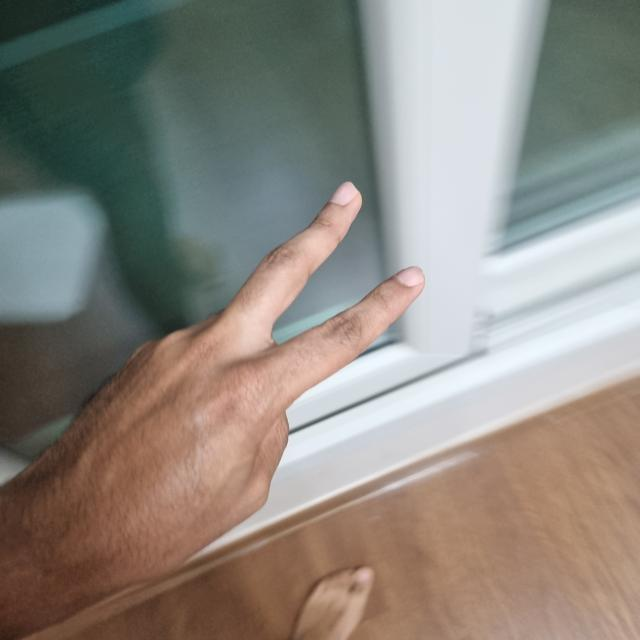Scissors: (0, 183, 422, 638)
